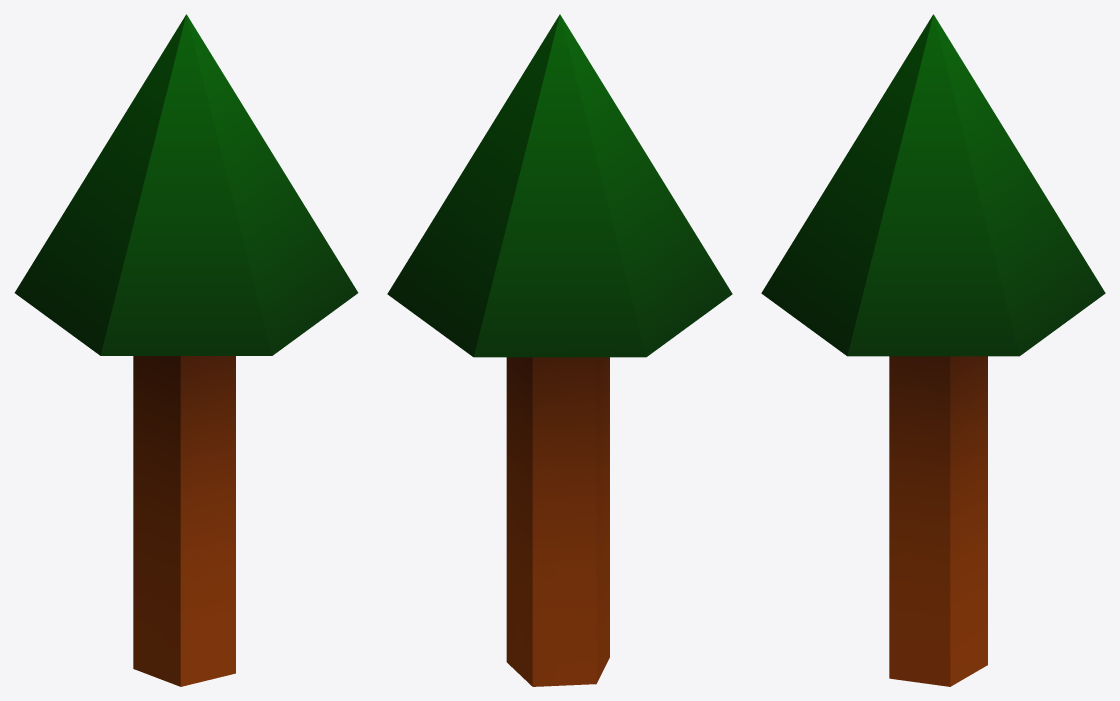
File: ArvoreEscuraBaixa.fbx
The picture shows the model from 3 angles, left to right: view 1: azimuth 30°, elevation 25°; view 2: azimuth 150°, elevation 25°; view 3: azimuth 270°, elevation 25°; orthographic projection.
Visible parts, largest first — view 1: Cylinder.001; view 2: Cylinder.001; view 3: Cylinder.001.
Boxes of the visible parts, x1,y1,x2,y2 form: Cylinder.001: (14, 14, 358, 686); Cylinder.001: (387, 14, 732, 686); Cylinder.001: (761, 14, 1105, 686).
Bounding box in the file's own units: 197 × 475 × 228.
